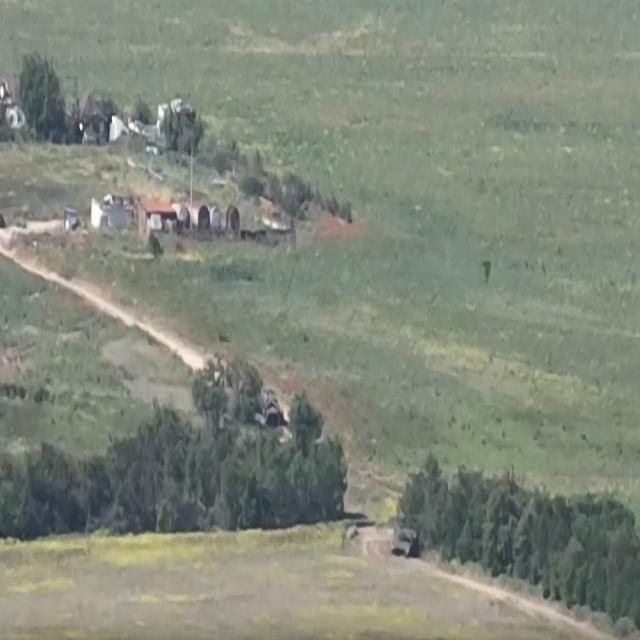MBT: (391, 520, 420, 568), (260, 387, 286, 427)
